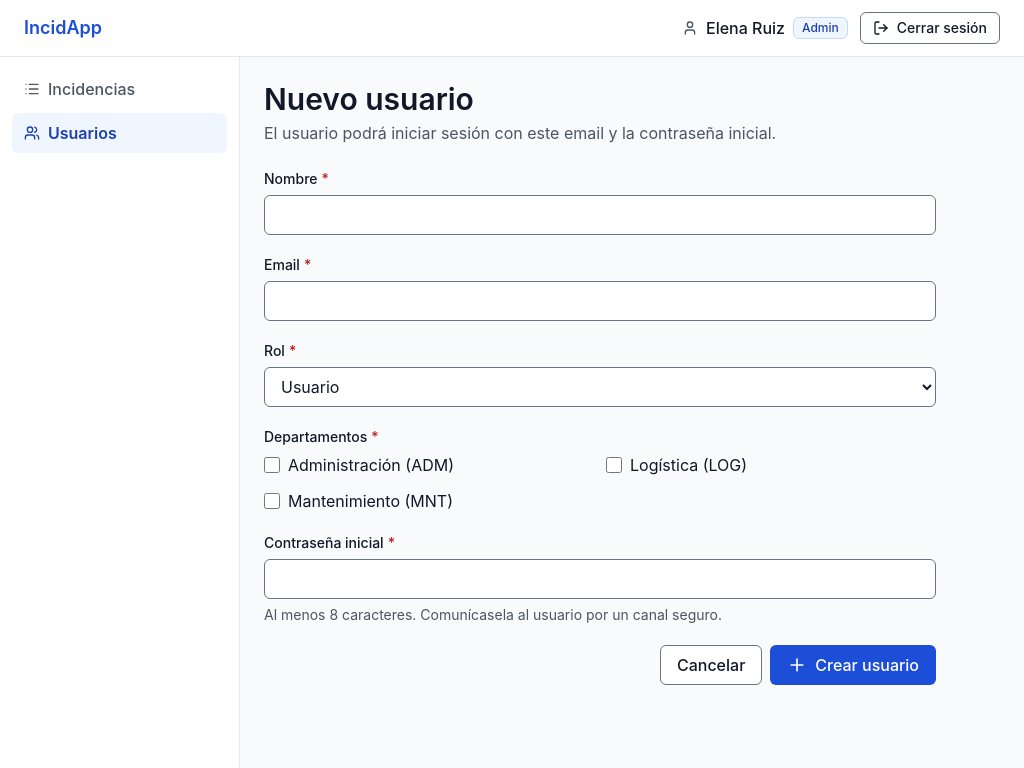
CA-02.19 · alta de usuario › un 400 de departamentos va junto a las casillas
Expected: the button "Crear usuario" is shown, [770, 645, 936, 685]
Type "Lucía Gil" into the field labelled "Nombre*" at point(600, 215), box [264, 195, 936, 235]
Type "lucia.gil@incidapp.test" into the field labelled "Email*" at point(600, 301), box [264, 281, 936, 321]
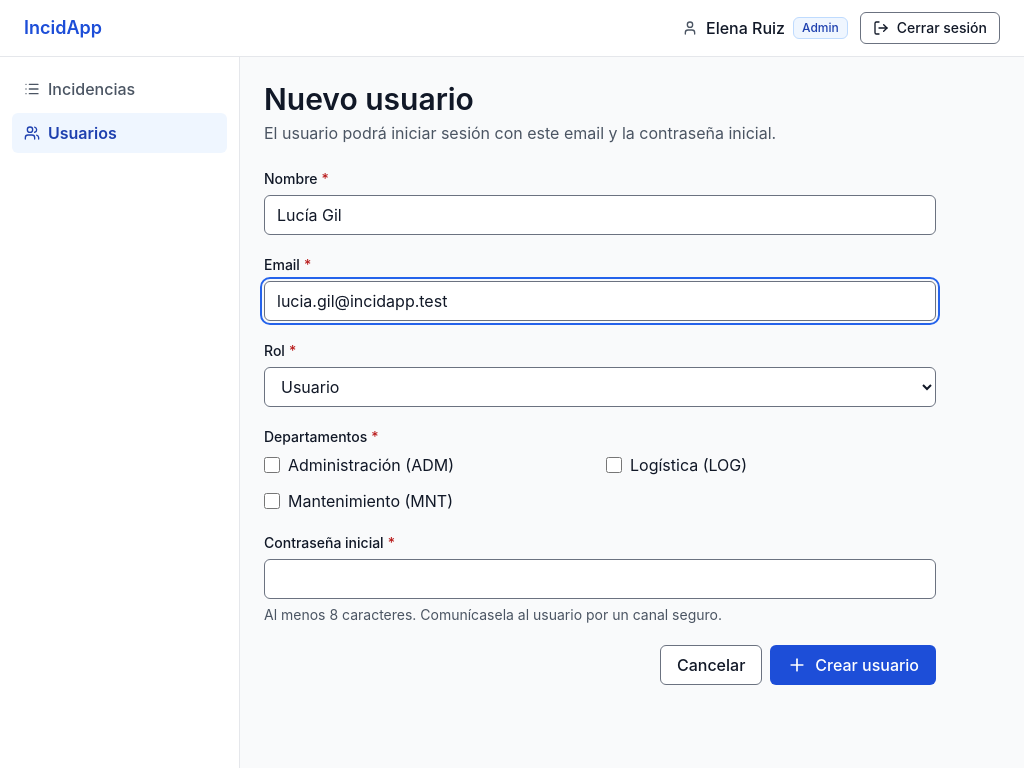
Select "Responsable" in the dropdown labelled "Rol*" at point(600, 387), box [264, 367, 936, 407]
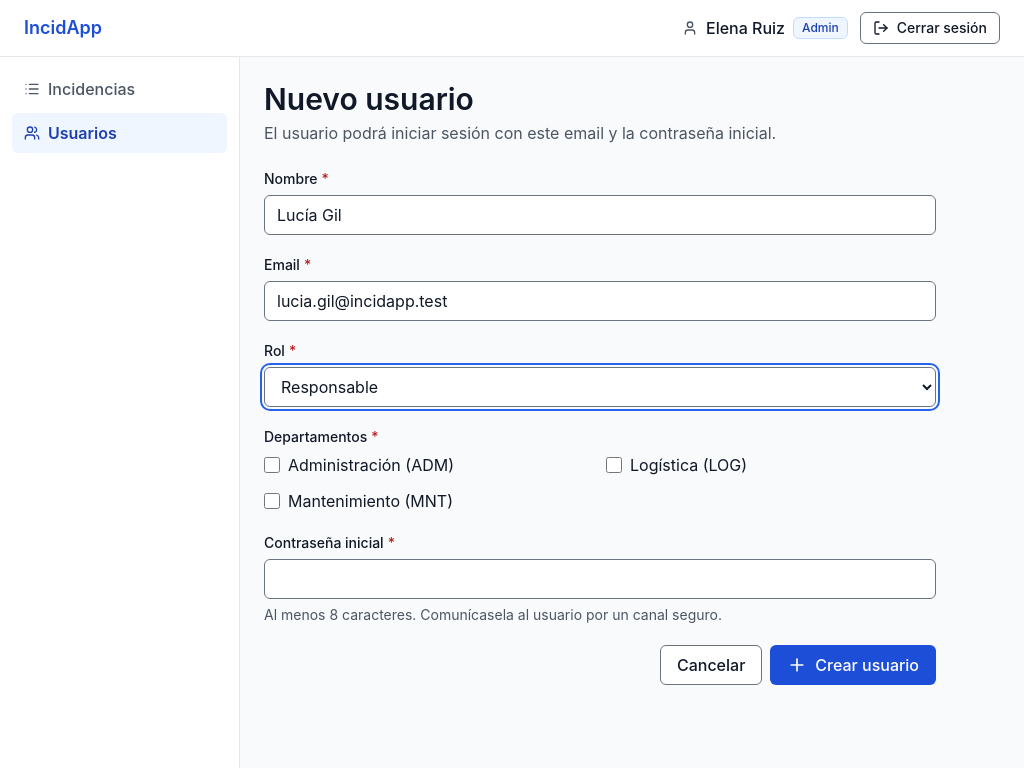
Click the checkbox labelled "Logística (LOG)" at point(614, 465), box [606, 457, 622, 473]
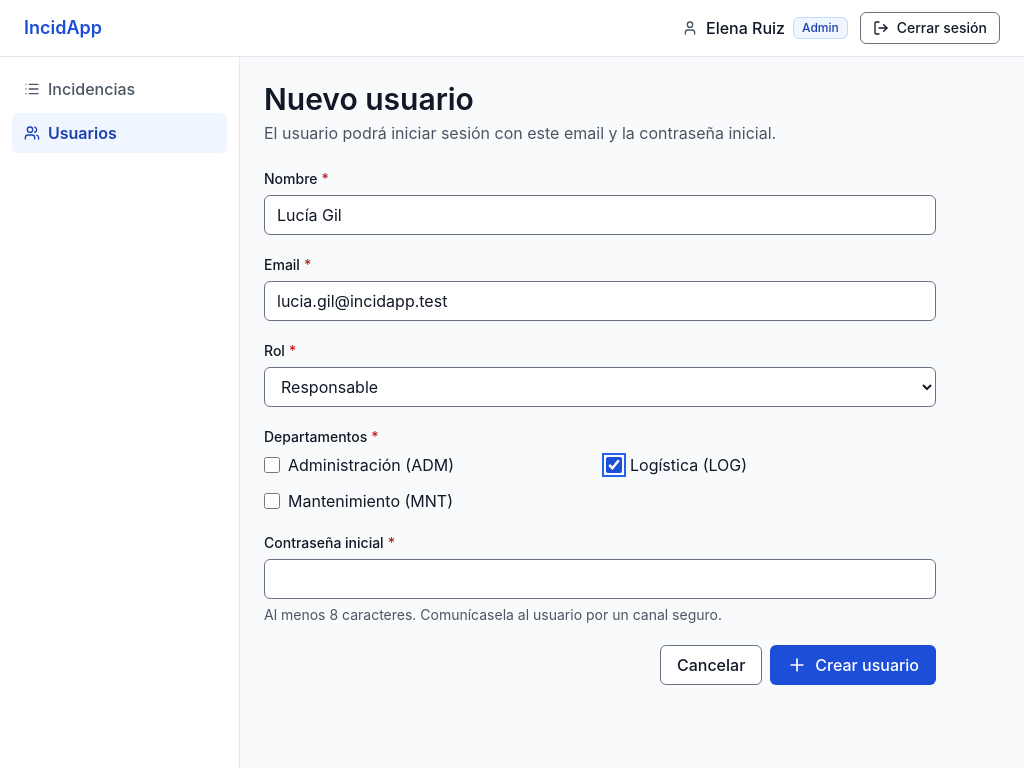
Click the checkbox labelled "Mantenimiento (MNT)" at point(272, 501), box [264, 493, 280, 509]
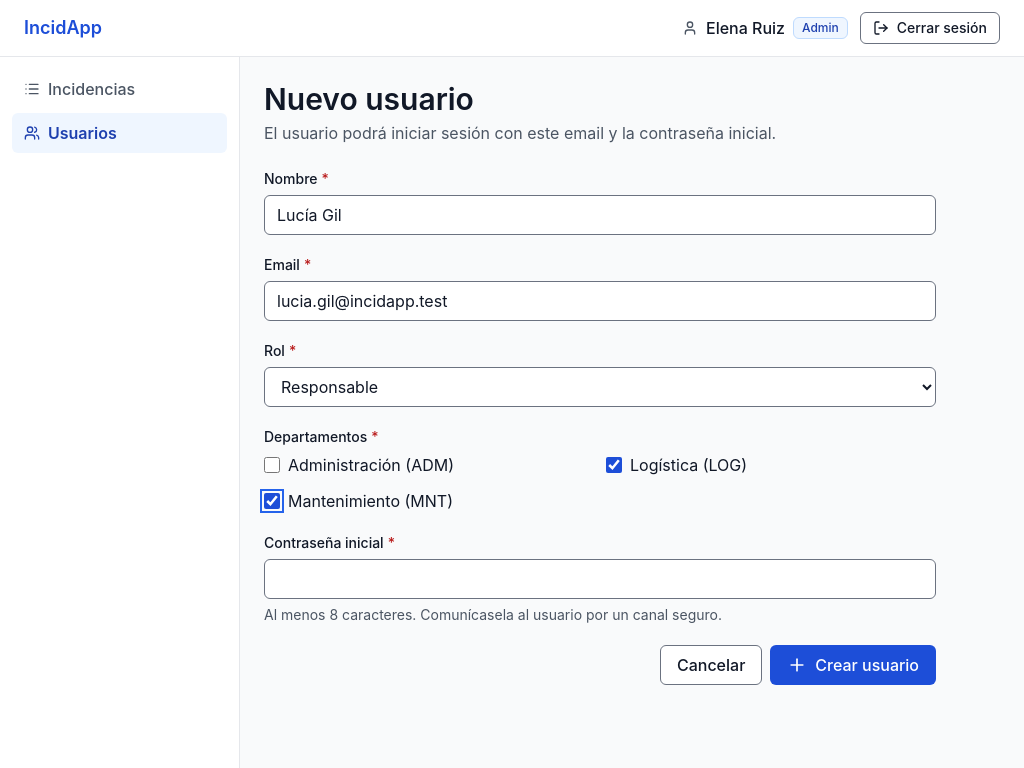
Type "Segura2026!" into the password field labelled "Contraseña inicial*" at point(600, 579), box [264, 559, 936, 599]
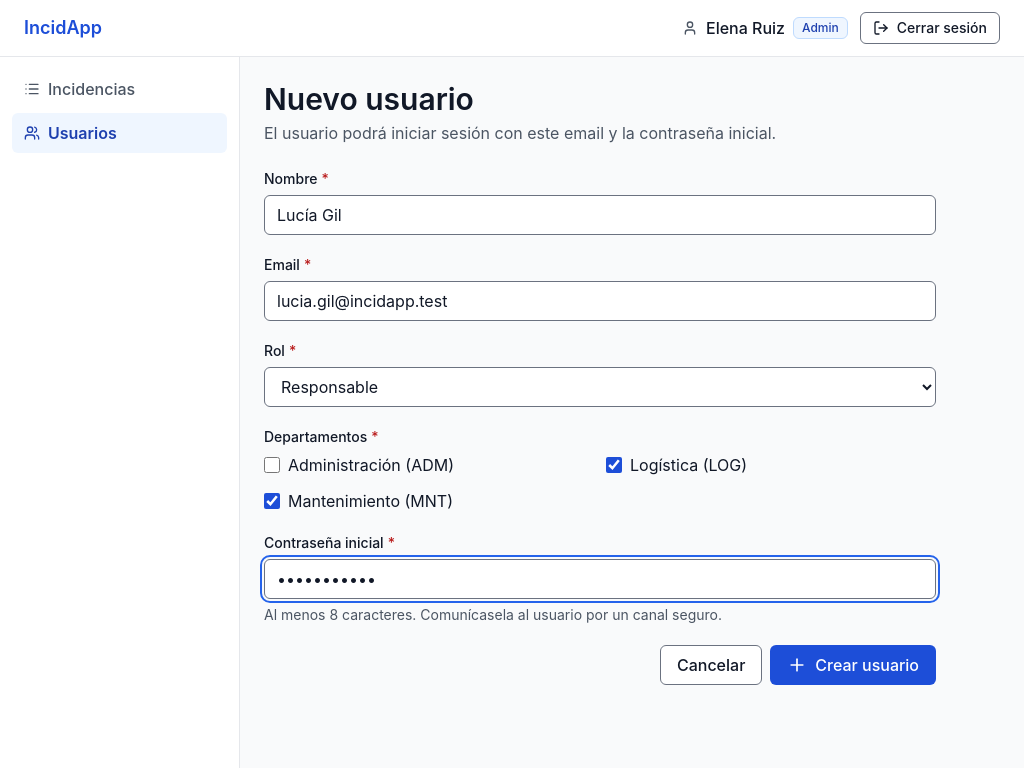
Click the button "Crear usuario" at point(853, 665), box [770, 645, 936, 685]
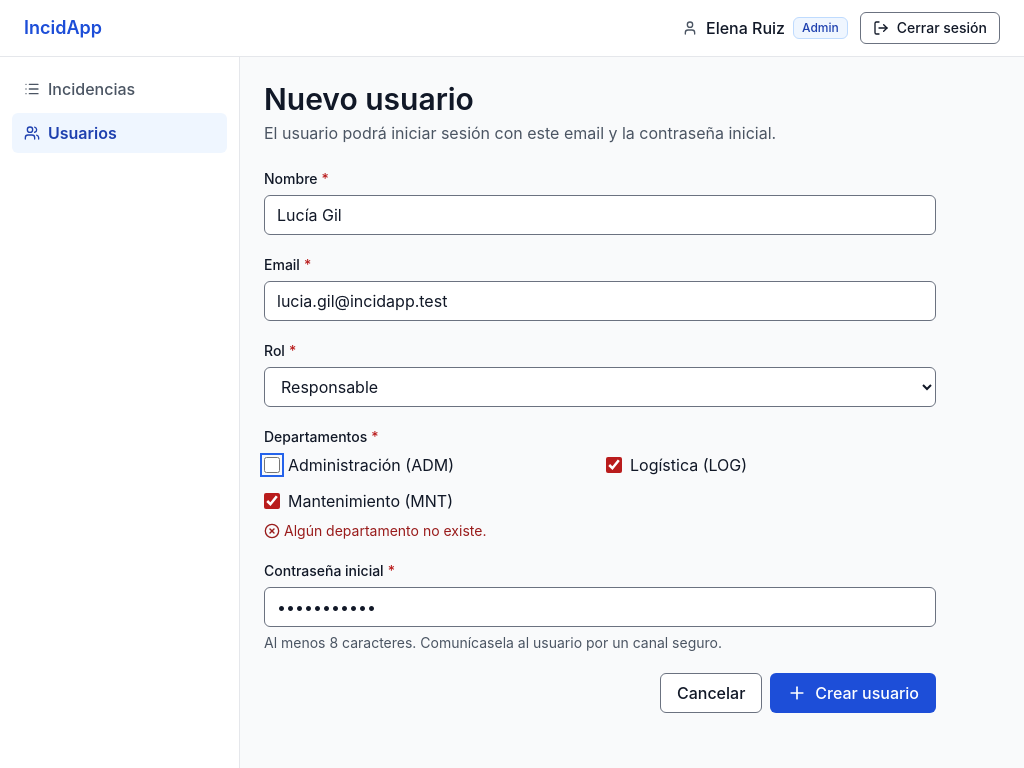
Expected: the text "Algún departamento no existe." is shown, [284, 521, 486, 541]
